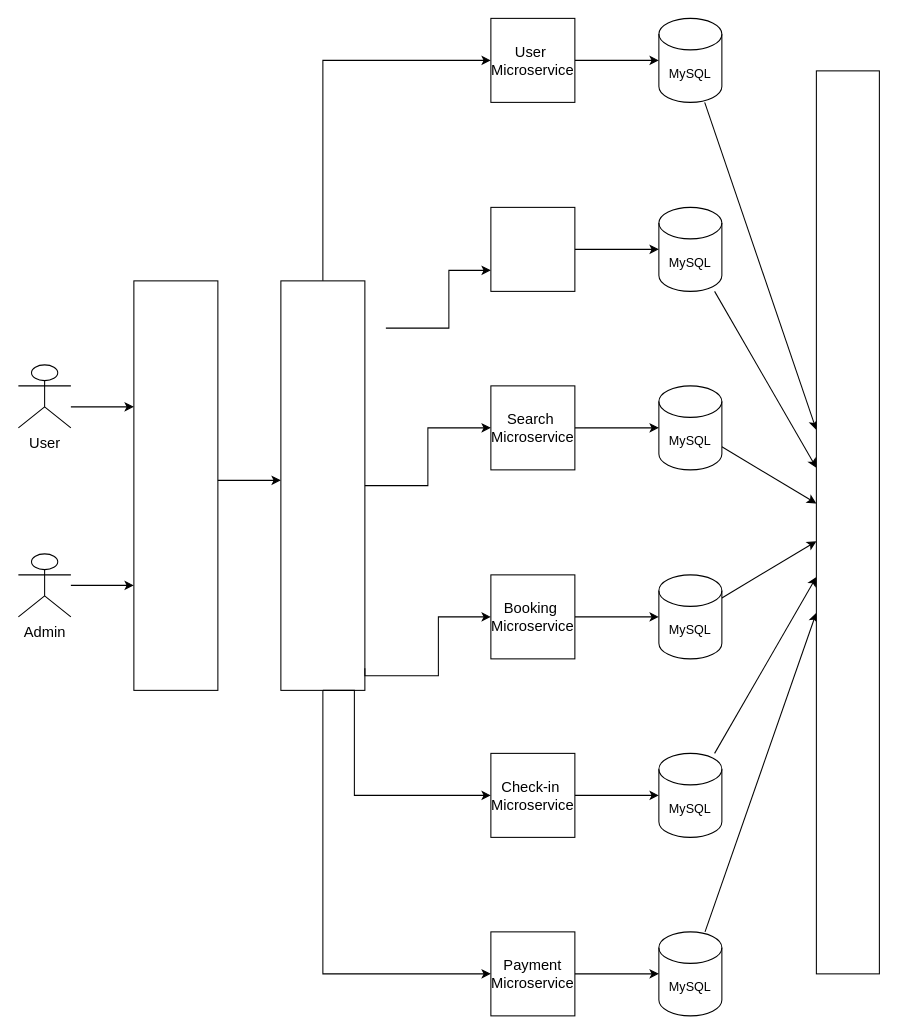
The diagram is 898 pixels wide and 1034 high, and some of its shapes have lost their labels. Each missing label, with the centre of its shape:
"Admin Microservice" goes at point (532, 248).
"API" goes at point (322, 485).
"E U R E K A S E R V E R" goes at point (847, 522).
"W e b A p p l i c a t i o n" goes at point (175, 485).
